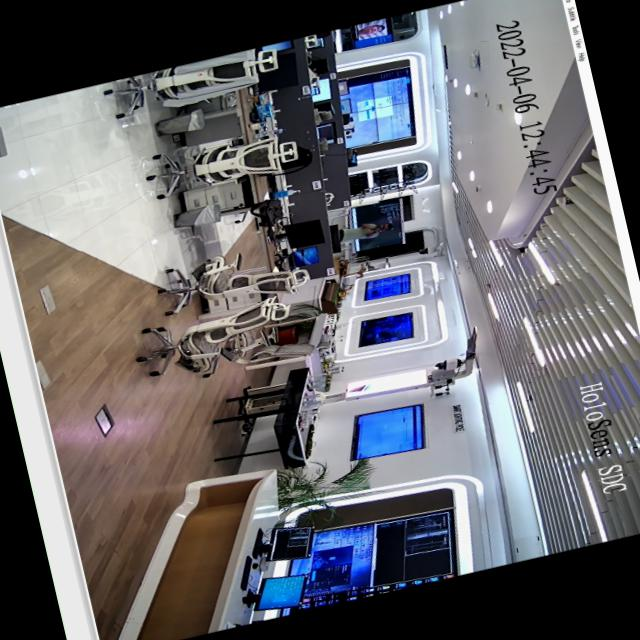long weapon: (366, 223, 384, 236)
